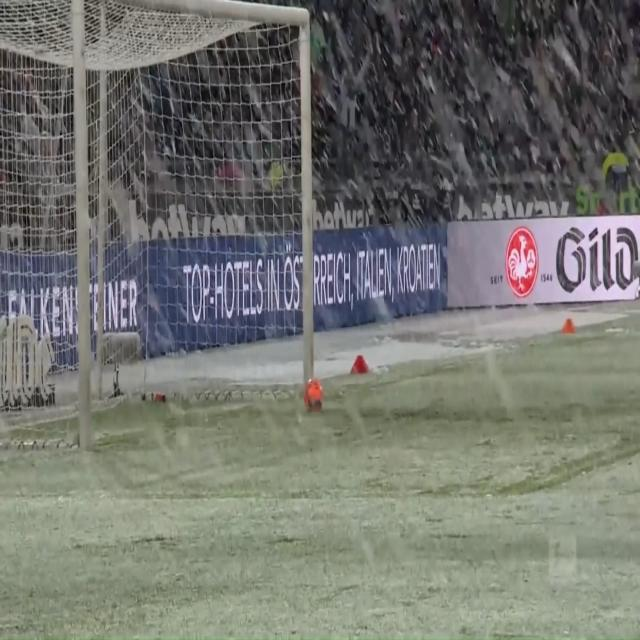ball: (302, 373, 328, 418)
